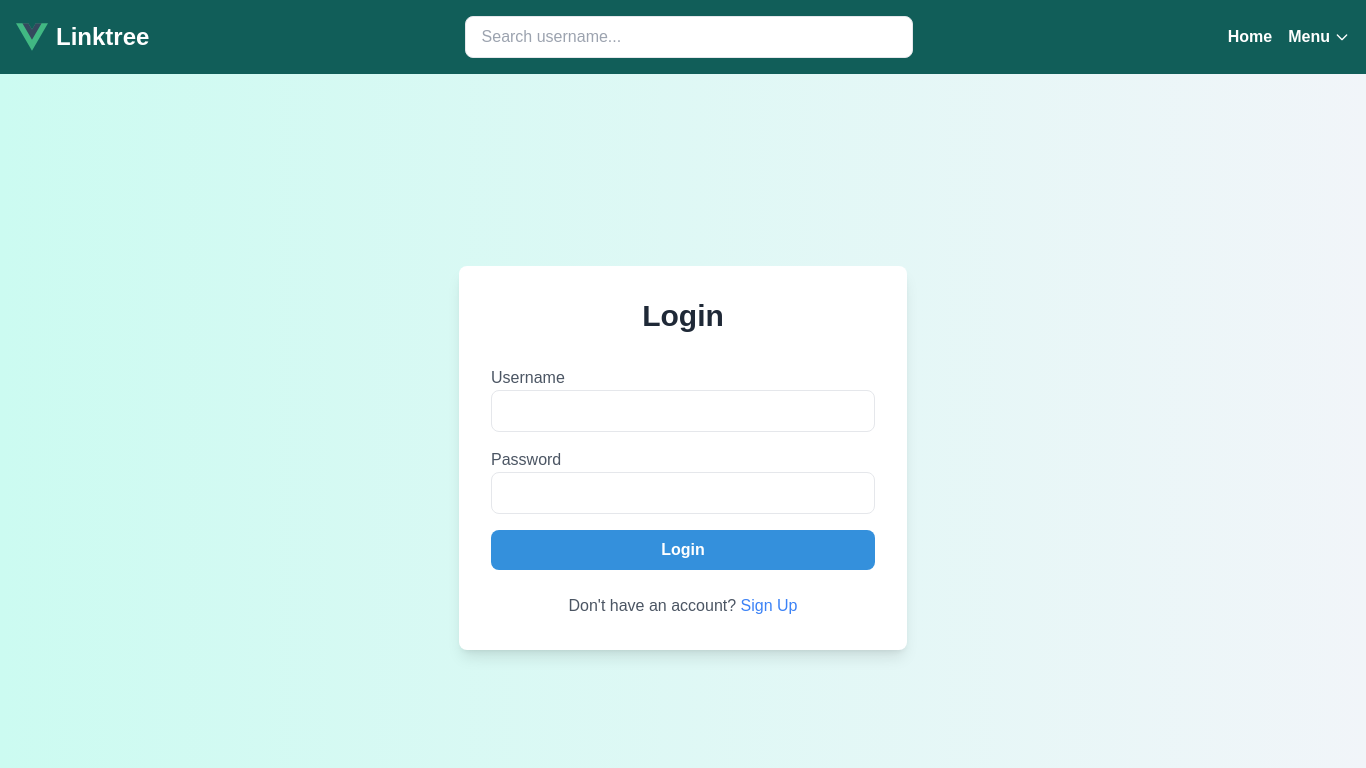
MessageBox Component › should dismiss on click
This screenshot has width=1366, height=768.
Type "invaliduser" into the field with id "username" at (683, 411), box [491,390,875,432]
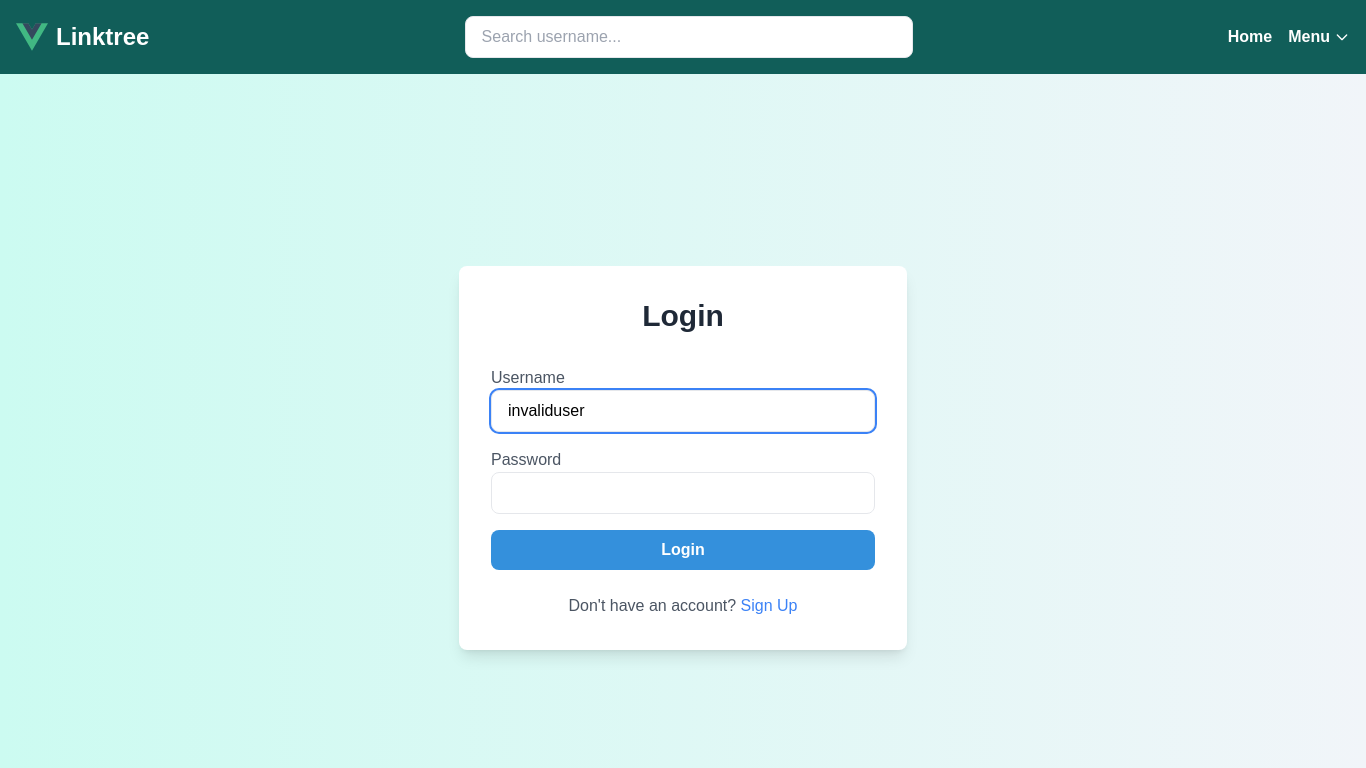
Type "invalidpass" into the password field labelled "Password" at (683, 493), box [491,472,875,514]
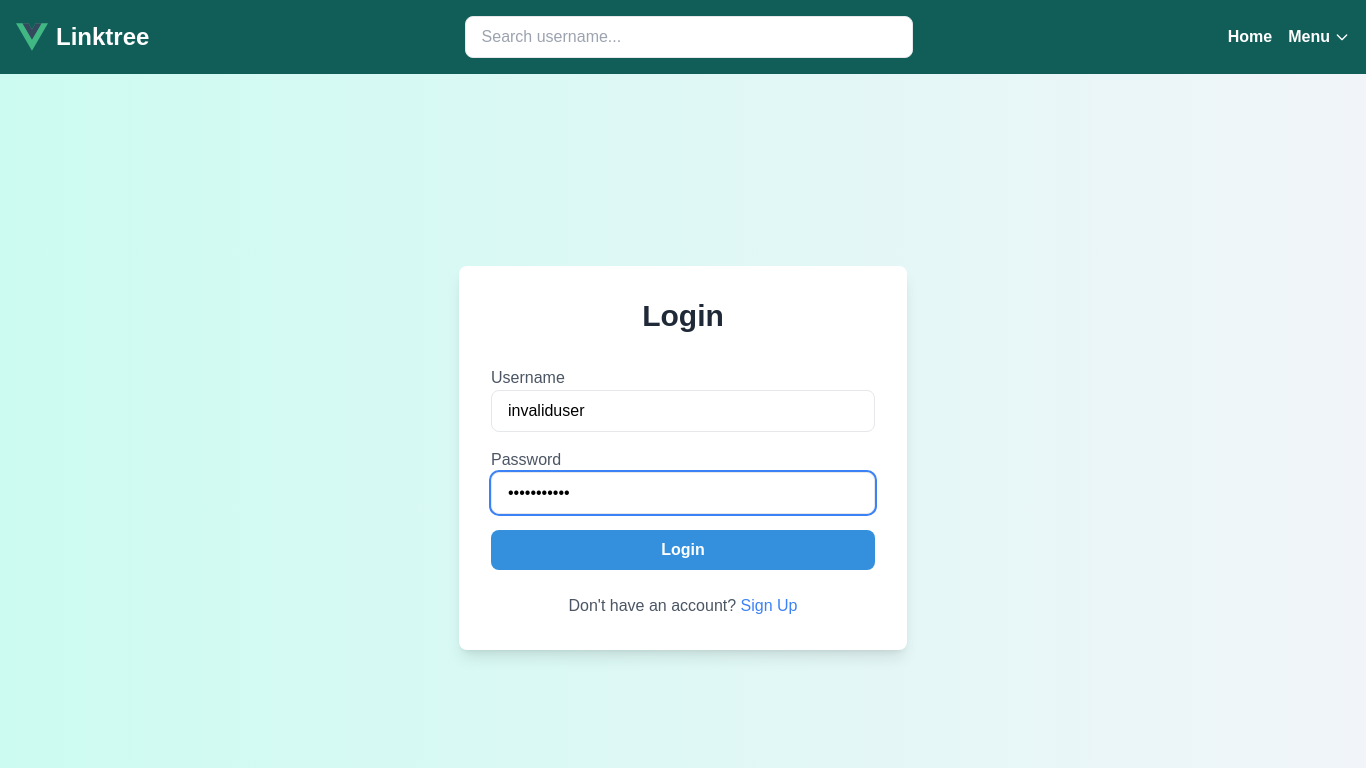
Click the submit button at (683, 550), box [491,530,875,570]
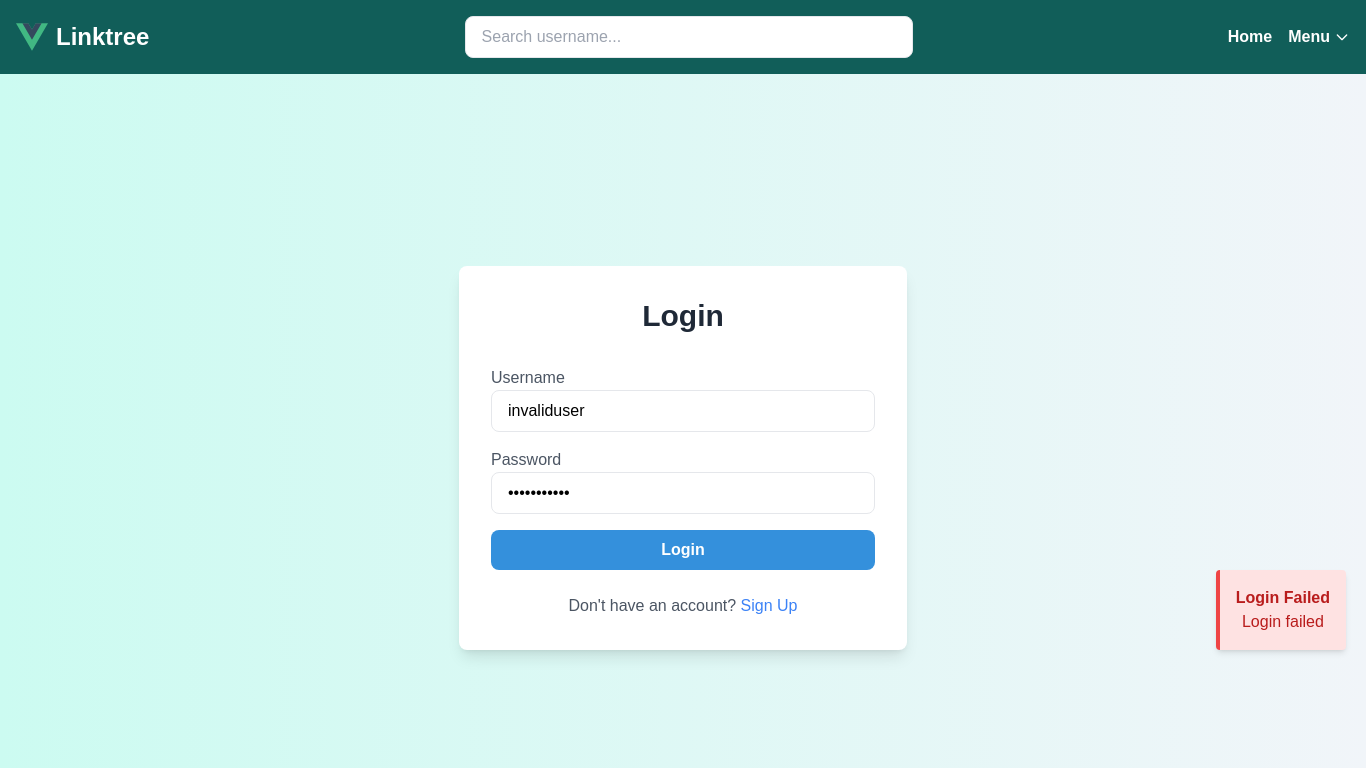
Click the text "Login Failed" at (1283, 598), box [1236,589,1330,606]
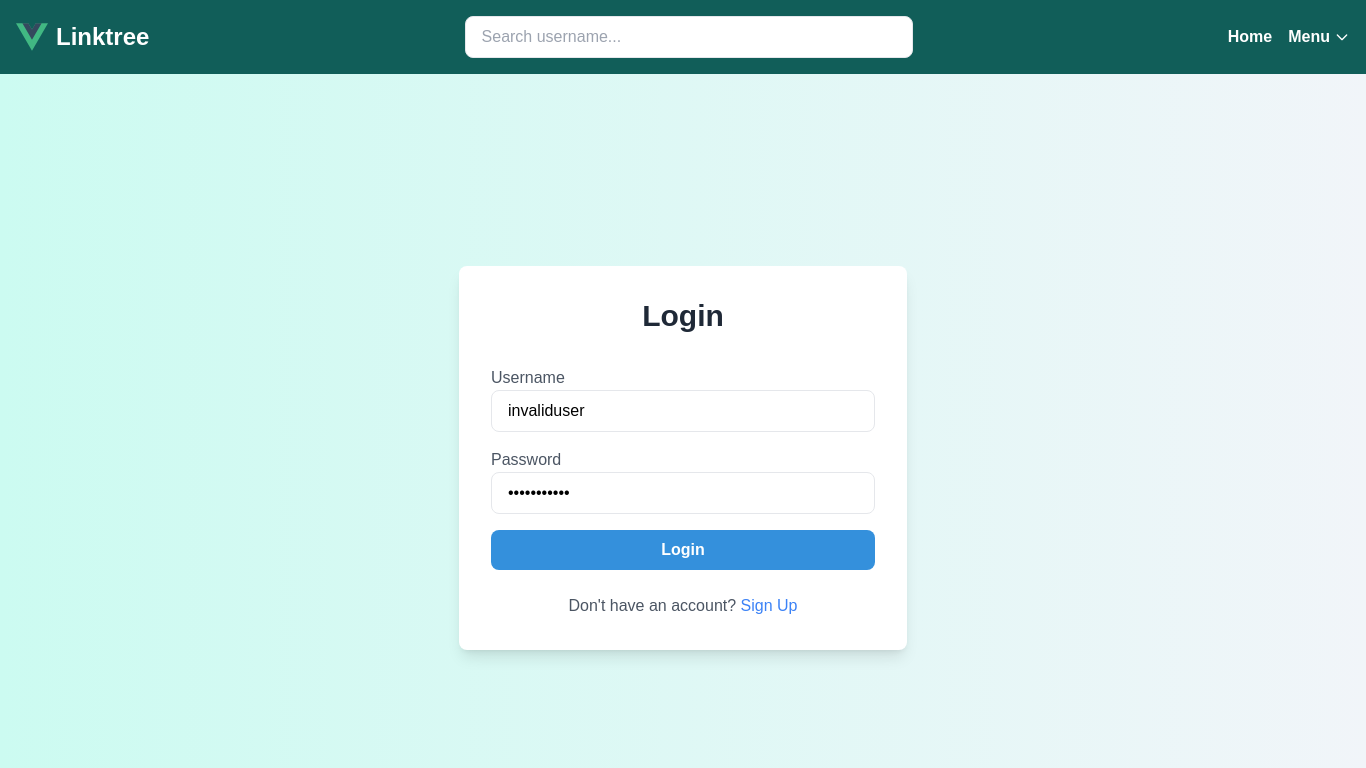
Expected: the text "Login Failed" is gone
